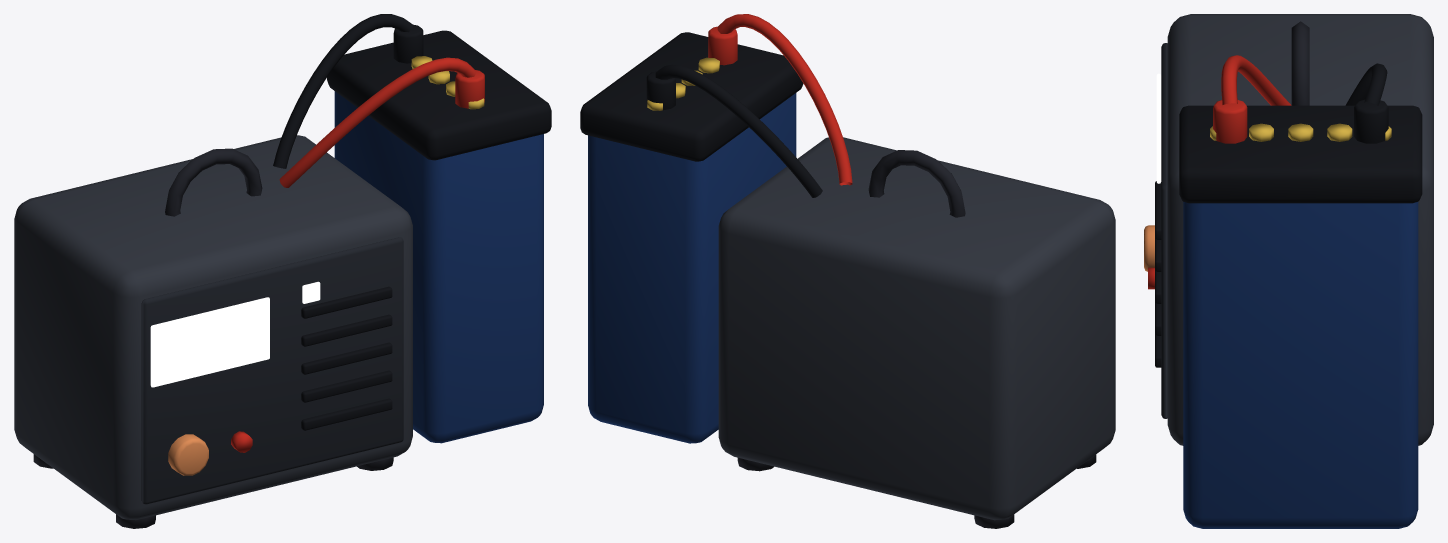
The model's file is charge-inverter.glb.
3 views of the same model, side by side, from view 1: azimuth 30°, elevation 25°; view 2: azimuth 150°, elevation 25°; view 3: azimuth 270°, elevation 25° (orthographic). The views are drawn at different scales.
Visible parts, largest first — view 1: body.004, glow.004; view 2: body.004; view 3: body.004, glow.004.
Part boxes in pixels (<box>): body.004: <box>14,14,551,528</box>; glow.004: <box>150,281,320,387</box>; body.004: <box>580,14,1115,528</box>; body.004: <box>1144,14,1433,528</box>; glow.004: <box>1156,73,1161,183</box>.
Bounding box in the file's own units: 0.735 × 0.6062 × 0.37.
